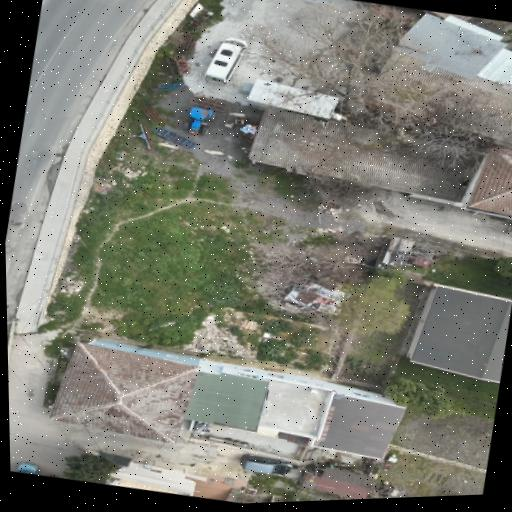car: (206, 38, 247, 84), (241, 455, 293, 476), (17, 463, 38, 474)
tractors: (187, 107, 215, 135)
